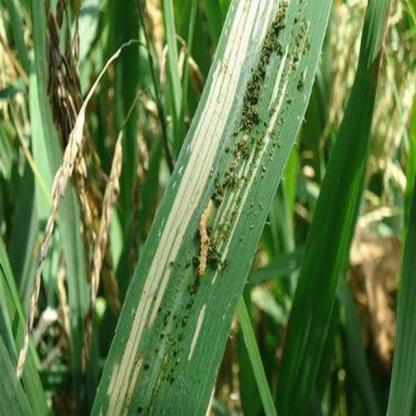leaf-folder: (188, 188, 224, 288)
